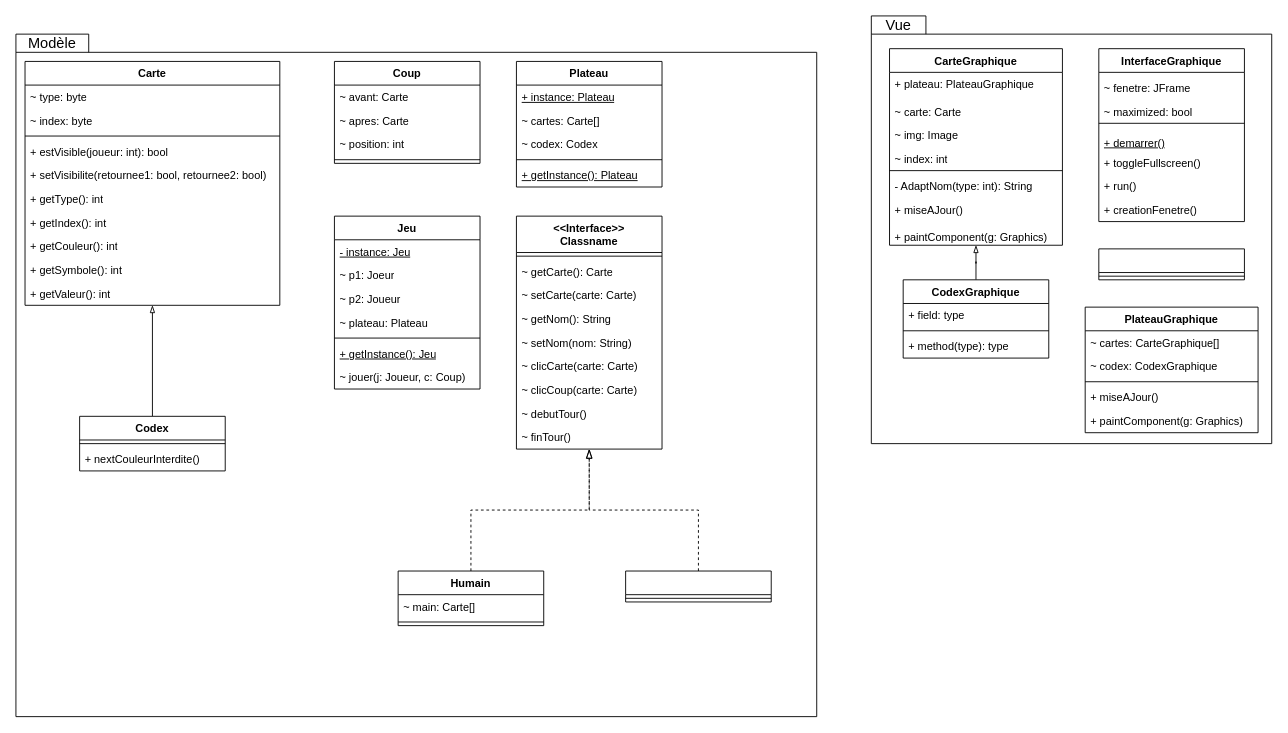
Image size: 1288x733. Some labels were removed from this diagram. Each missing label, with the centre of its shape:
IA: the point at 698,586
JoueurGraphique: the point at 1171,264
